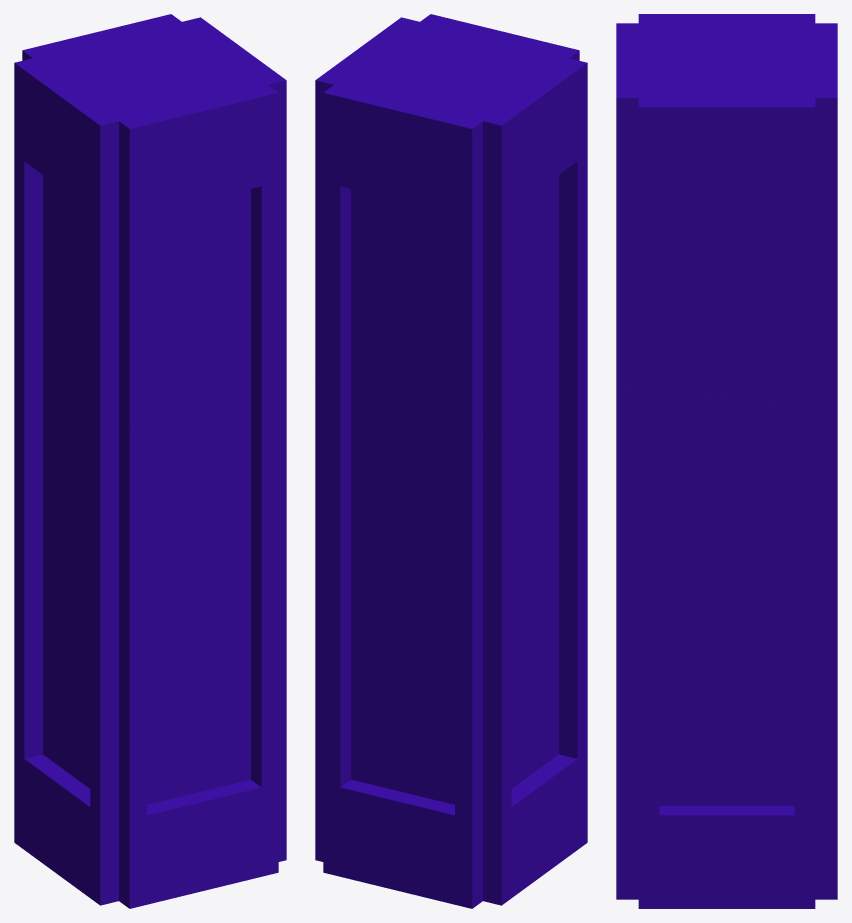
Rendered from skyscraperTwo.gltf.
The picture shows the model from 3 angles, left to right: view 1: azimuth 30°, elevation 25°; view 2: azimuth 150°, elevation 25°; view 3: azimuth 270°, elevation 25°; orthographic projection. The views are drawn at different scales.
Parts seen in each view (by area): view 1: Cube_cell, Cube_cell.001; view 2: Cube_cell, Cube_cell.001; view 3: Cube_cell, Cube_cell.001.
Part boxes in pixels (<box>): Cube_cell: <box>14,360,286,908</box>; Cube_cell.001: <box>14,14,286,429</box>; Cube_cell: <box>315,367,587,908</box>; Cube_cell.001: <box>315,14,587,448</box>; Cube_cell: <box>616,386,837,908</box>; Cube_cell.001: <box>616,14,837,412</box>.
Bounding box in the file's own units: 5 × 20 × 5.
